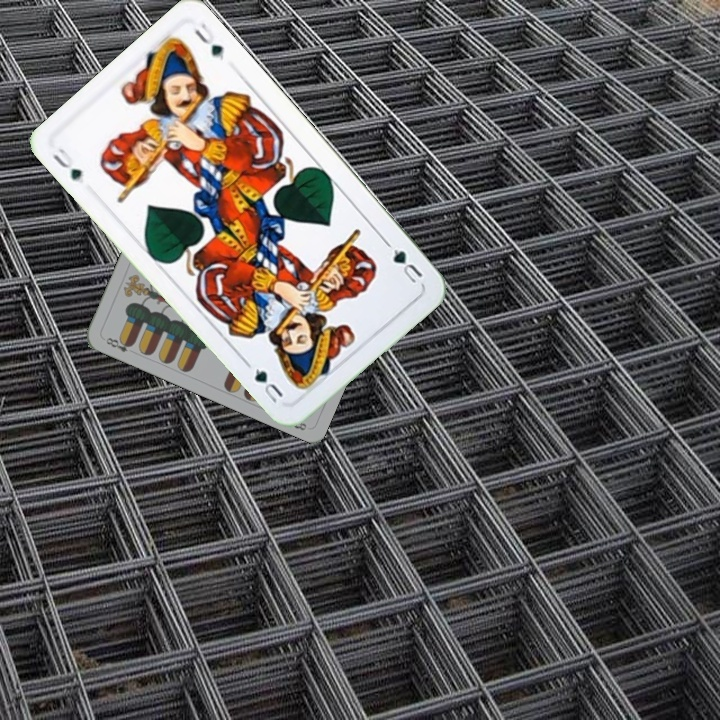E8: (102, 333, 136, 355)
GU: (382, 238, 425, 286), (48, 144, 85, 184)
